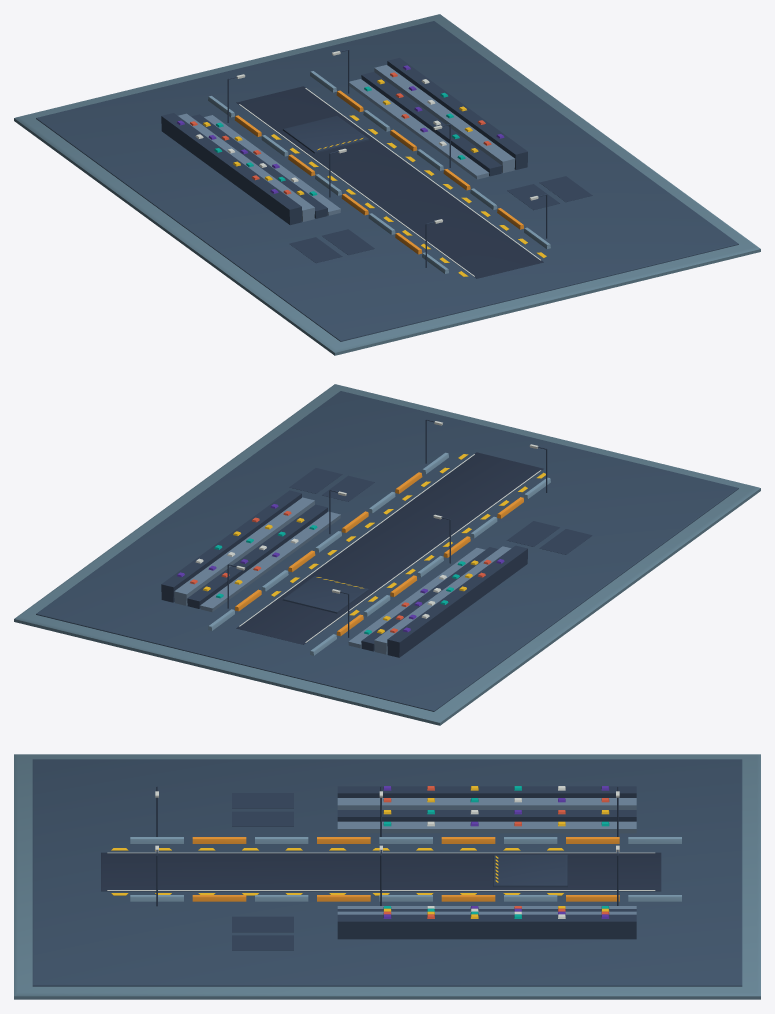
The model's file is Arena.glb.
The picture shows the model from 3 angles, top to bottom: view 1: azimuth 30°, elevation 25°; view 2: azimuth 150°, elevation 25°; view 3: azimuth 270°, elevation 25°; orthographic projection. The views are drawn at different scales.
Visible parts, largest first — view 1: arena_surface, foundation, runway, grandstand_step_-1_3, grandstand_step_1_3, grandstand_step_1_2, grandstand_step_1_1, grandstand_step_1_0, statue_platform, grandstand_step_-1_2, grandstand_step_-1_1, grandstand_step_-1_0 (+4 smaller); view 2: arena_surface, foundation, runway, grandstand_step_-1_3, grandstand_step_1_3, grandstand_step_1_2, grandstand_step_1_1, grandstand_step_1_0, statue_platform, grandstand_step_-1_2, grandstand_step_-1_1, grandstand_step_-1_0 (+4 smaller); view 3: arena_surface, foundation, runway, grandstand_step_1_3, grandstand_step_-1_0, grandstand_step_-1_1, grandstand_step_-1_2, grandstand_step_-1_3, statue_platform, runway_edge_-1, parking_bay_2, grandstand_step_1_2 (+6 smaller).
Part boxes in pixels (x1,y1,x2,y2): arena_surface: (36,21,738,341); foundation: (14,14,760,355); runway: (236,86,543,278); grandstand_step_-1_3: (161,113,301,225); grandstand_step_1_3: (387,57,527,169); grandstand_step_1_2: (374,65,514,173); grandstand_step_1_1: (361,72,502,176); grandstand_step_1_0: (349,79,489,179); statue_platform: (283,116,368,153); grandstand_step_-1_2: (178,113,314,221); grandstand_step_-1_1: (191,114,327,218); grandstand_step_-1_0: (204,115,340,215); arena_surface: (36,391,738,711); foundation: (14,384,760,725); runway: (236,452,543,644); grandstand_step_-1_3: (387,545,527,657); grandstand_step_1_3: (161,490,301,602); grandstand_step_1_2: (174,497,314,605); grandstand_step_1_1: (187,504,327,608); grandstand_step_1_0: (200,511,340,611); statue_platform: (282,576,368,613); grandstand_step_-1_2: (374,546,511,654); grandstand_step_-1_1: (361,547,498,651); grandstand_step_-1_0: (348,548,485,648); arena_surface: (32,759,742,986); foundation: (14,754,760,999); runway: (101,852,661,891); grandstand_step_1_3: (337,914,636,939); grandstand_step_-1_0: (337,821,636,833); grandstand_step_-1_1: (337,810,636,821); grandstand_step_-1_2: (337,798,636,809); grandstand_step_-1_3: (337,786,636,797); statue_platform: (493,854,567,887); runway_edge_-1: (107,852,654,853); parking_bay_2: (232,916,293,932); grandstand_step_1_2: (337,911,636,914).
Bounding box in the file's own units: 92 × 10.32 × 120.
